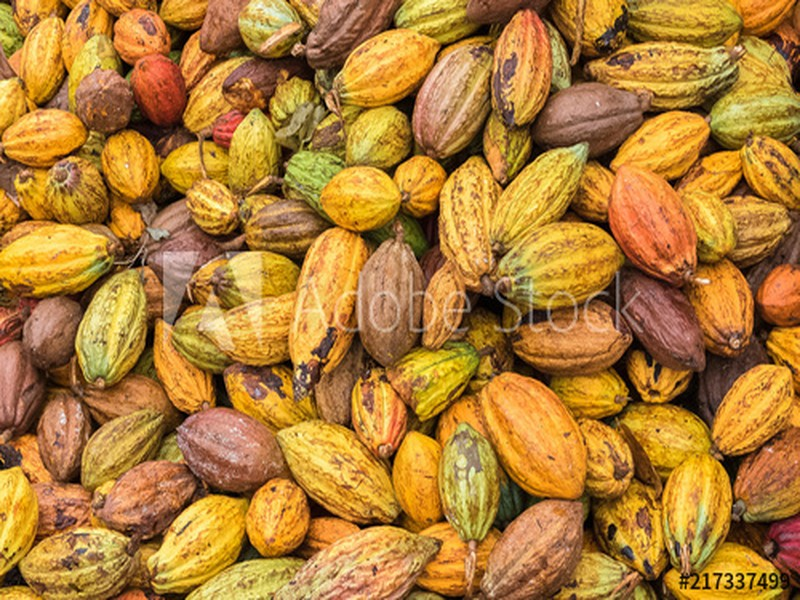Cacaopod: (478, 371, 589, 500)
